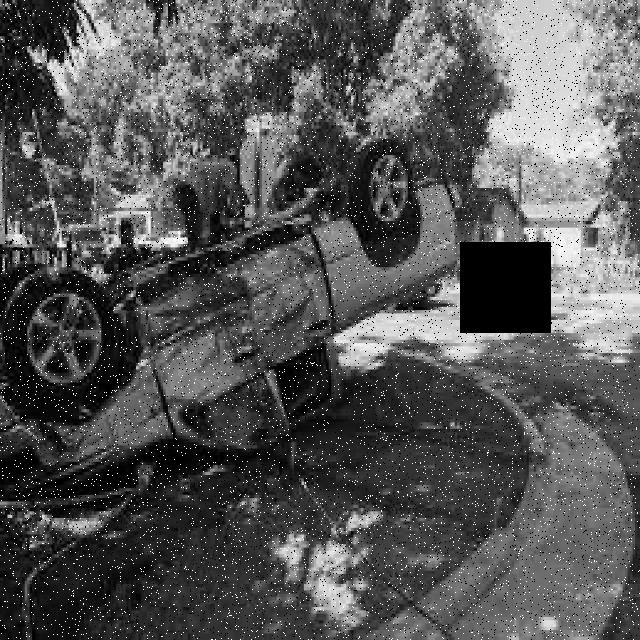severe: (2, 136, 470, 494)
